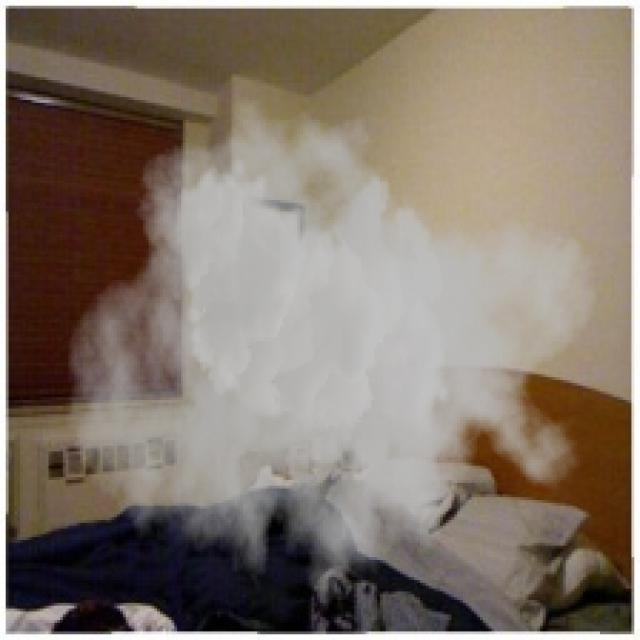Smoke: (65, 97, 600, 634)
